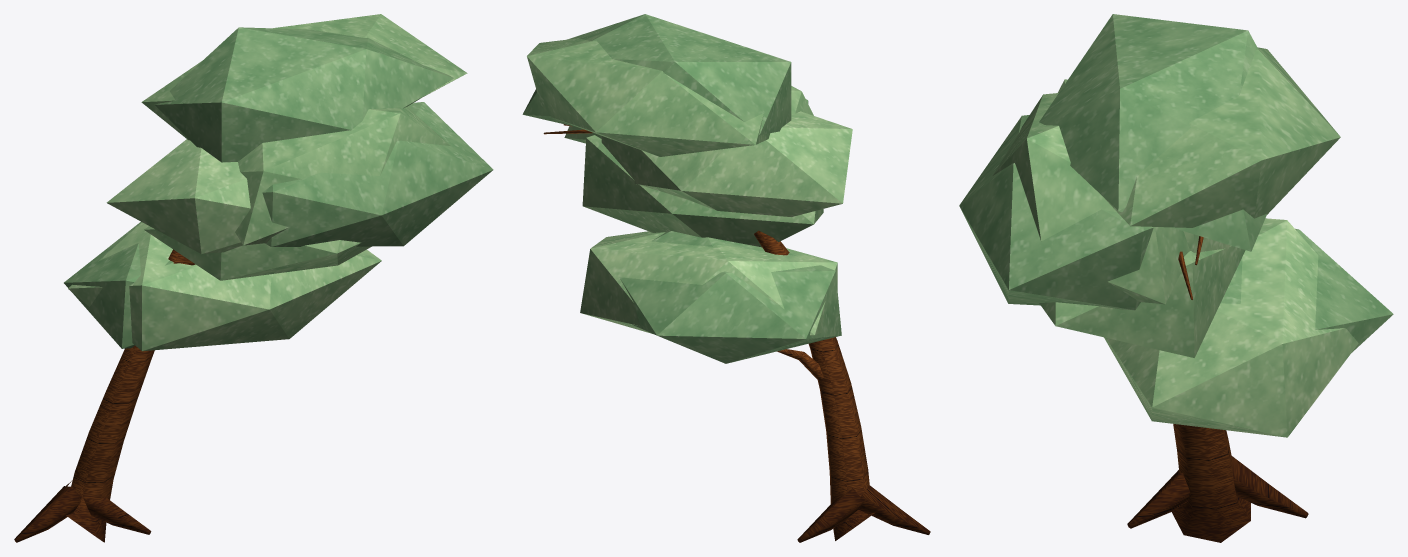
Rendered from tree_cloud_a.glb.
The picture shows the model from 3 angles, left to right: view 1: azimuth 30°, elevation 25°; view 2: azimuth 150°, elevation 25°; view 3: azimuth 270°, elevation 25°; orthographic projection. The views are drawn at different scales.
Visible parts, largest first — view 1: tree_cloud_a; view 2: tree_cloud_a; view 3: tree_cloud_a.
Boxes of the visible parts, left/top/right/bottom form: tree_cloud_a: left=14, top=14, right=493, bottom=542; tree_cloud_a: left=522, top=14, right=930, bottom=542; tree_cloud_a: left=959, top=14, right=1393, bottom=542.
Bounding box in the file's own units: 5.75 × 5.96 × 3.84.
2 materials, 2 textured.
